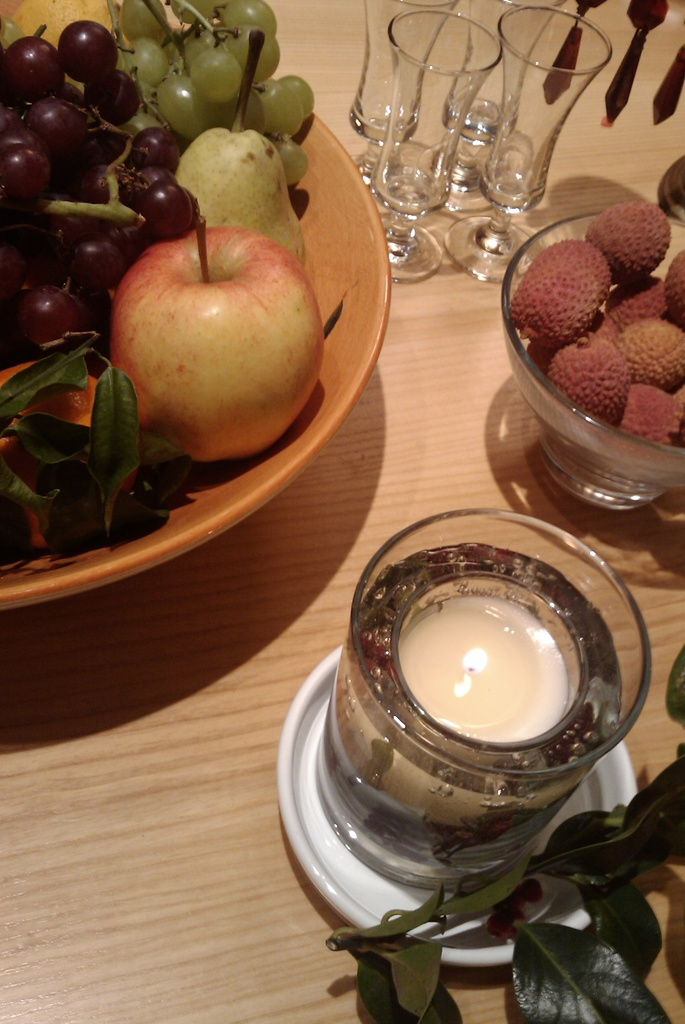Apple: (103, 212, 330, 458)
